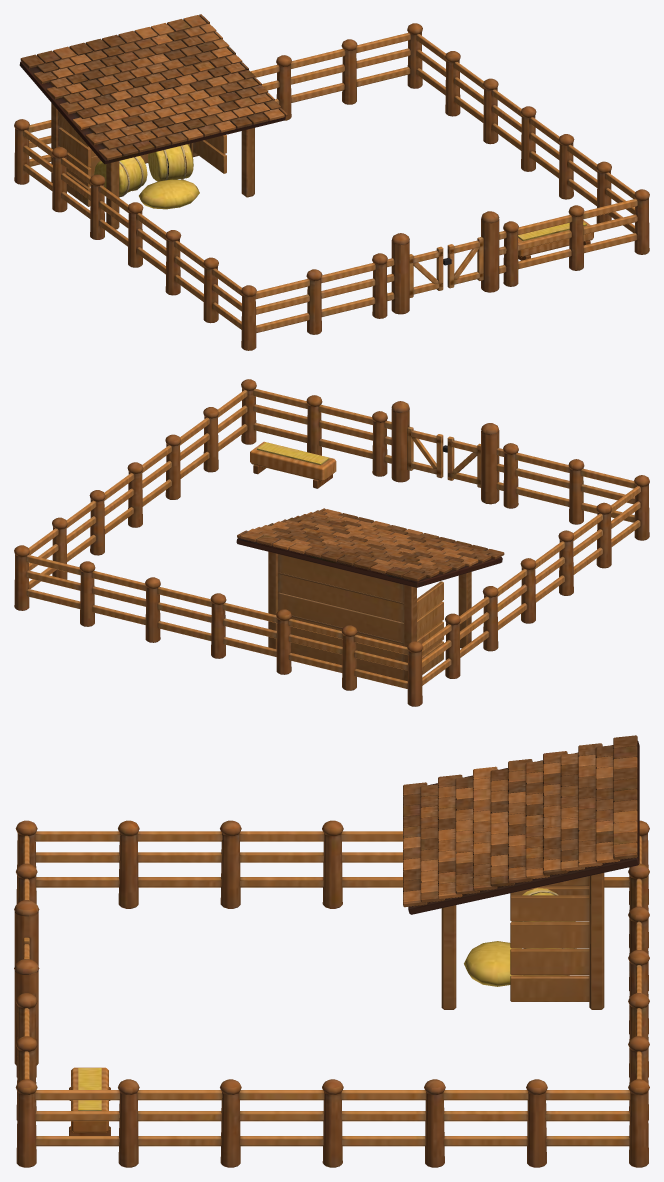
Rendered from jersey_pasture.glb.
3 views of the same model, one above another, from view 1: azimuth 30°, elevation 25°; view 2: azimuth 150°, elevation 25°; view 3: azimuth 270°, elevation 25° (orthographic). The views are drawn at different scales.
Parts seen in each view (by area): view 1: jersey_pasture; view 2: jersey_pasture; view 3: jersey_pasture.
Part boxes in pixels (bbox=[...]): jersey_pasture: bbox=[14, 14, 649, 350]; jersey_pasture: bbox=[14, 379, 649, 706]; jersey_pasture: bbox=[14, 735, 649, 1167].
Bounding box in the file's own units: 3 × 0.9345 × 3.01.
Materials: 1 (1 with a texture image).
